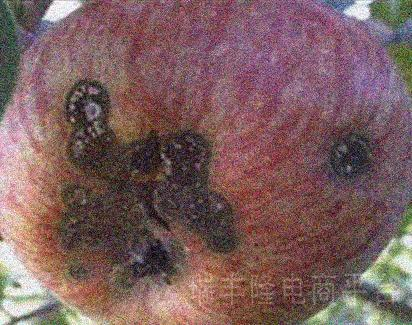rotten apple: (1, 1, 412, 325)
